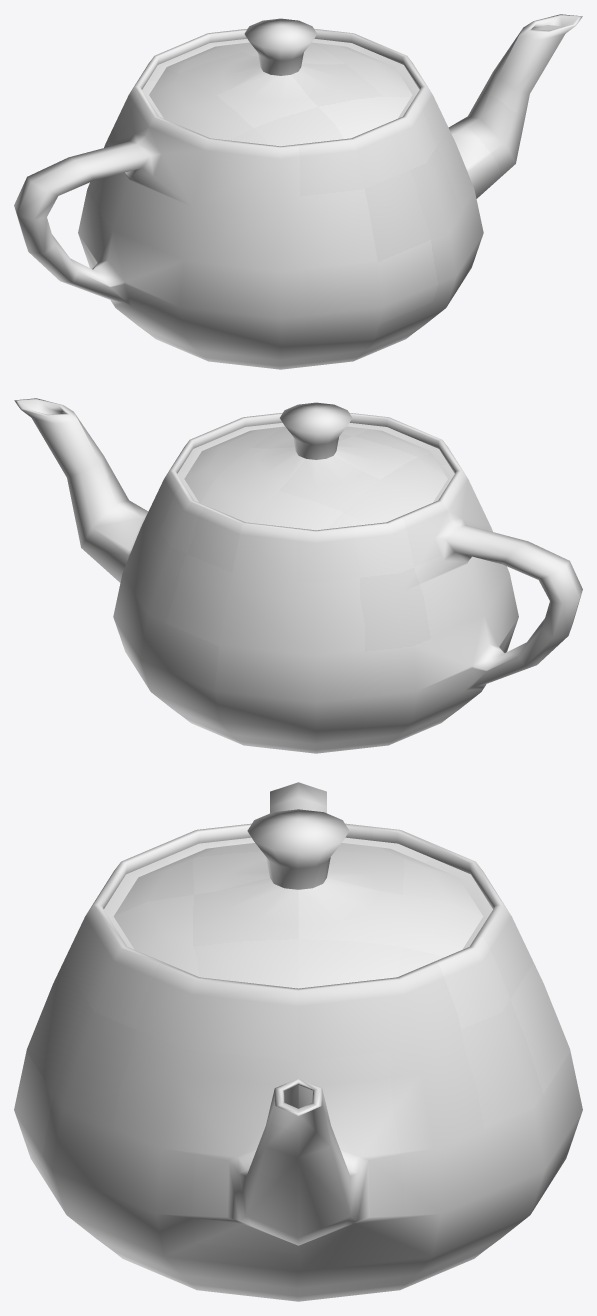
File: utah_teapot.obj
3 views of the same model, one above another, from view 1: azimuth 30°, elevation 25°; view 2: azimuth 150°, elevation 25°; view 3: azimuth 270°, elevation 25° (orthographic). The views are drawn at different scales.
Visible parts, largest first — view 1: Utah_Teapot; view 2: Utah_Teapot; view 3: Utah_Teapot.
Boxes of the visible parts, <box> form: Utah_Teapot: <box>14,14,582,369</box>; Utah_Teapot: <box>14,398,582,753</box>; Utah_Teapot: <box>14,782,582,1301</box>.
Size of the model in its own units: 0.6918 by 0.3384 by 0.4297.
